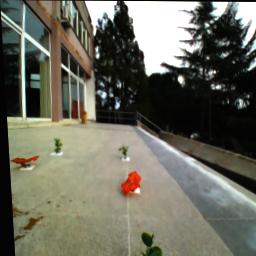herb: (135, 232, 161, 256), (51, 140, 63, 156), (119, 145, 129, 159)
wild: (119, 171, 142, 196), (10, 156, 40, 170)
